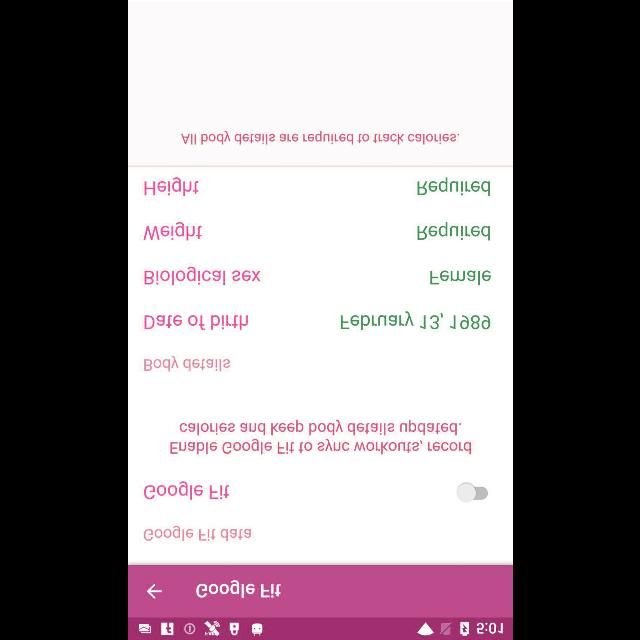icon: (145, 584, 161, 598)
switch: (455, 483, 487, 503)
text: (170, 420, 470, 454), (180, 131, 458, 145), (340, 312, 490, 331), (144, 266, 260, 286), (143, 525, 251, 541), (143, 480, 229, 500), (143, 314, 247, 330), (196, 580, 280, 598), (144, 356, 230, 372), (416, 178, 489, 196), (416, 222, 489, 240), (143, 222, 201, 240), (144, 178, 198, 196), (430, 270, 490, 286)
toolbar: (128, 564, 512, 618)
uppertaskbar: (128, 617, 512, 639)
